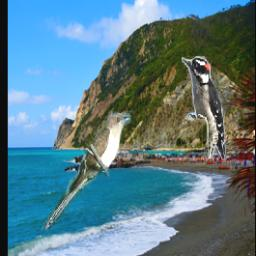Cuckoo: (42, 112, 132, 235)
Woodpecker: (182, 57, 226, 160)
